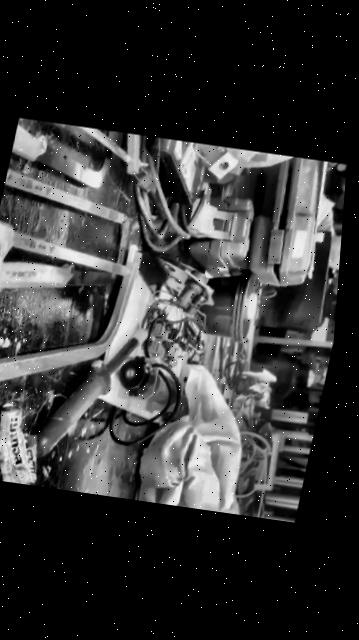pot: (198, 272, 256, 341)
